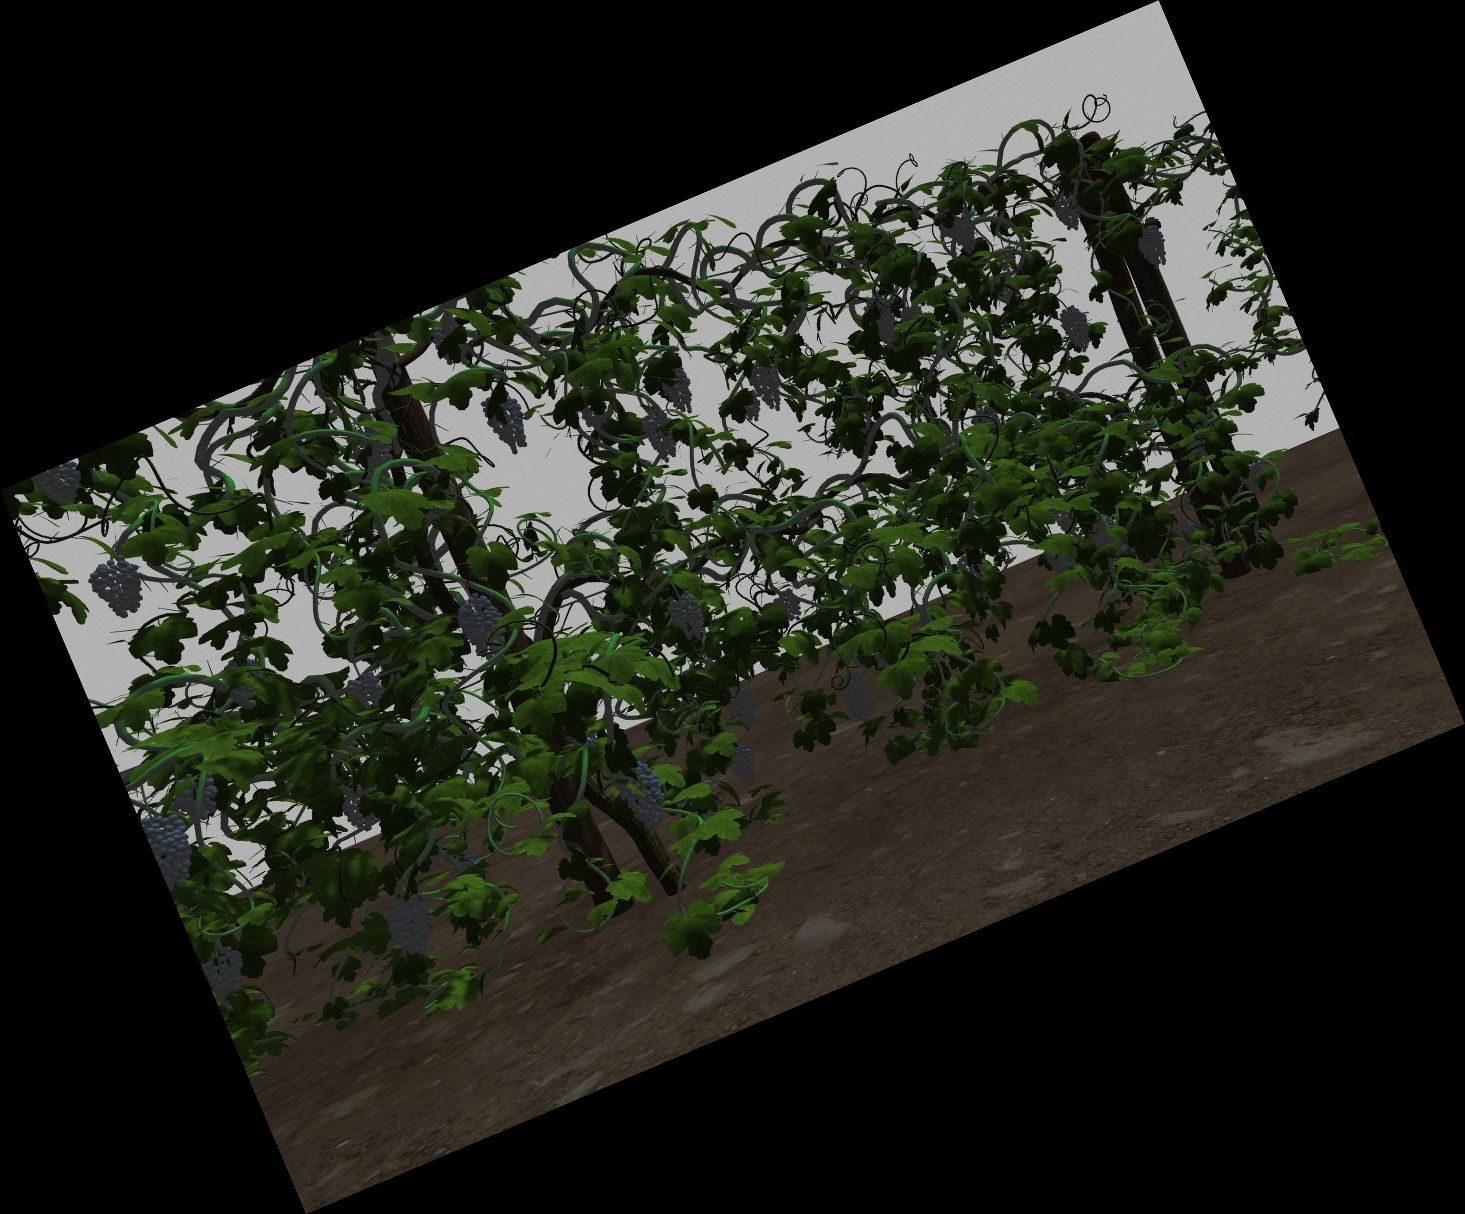grape: (389, 894, 433, 956), (625, 761, 666, 828), (96, 560, 144, 616), (158, 813, 192, 886), (461, 594, 501, 654), (489, 392, 524, 453), (178, 777, 219, 819), (662, 360, 692, 414), (208, 948, 245, 991), (39, 470, 84, 505), (672, 592, 703, 640), (842, 671, 871, 723), (753, 360, 781, 412), (647, 411, 675, 461), (1090, 515, 1122, 558), (1062, 307, 1091, 349), (347, 674, 381, 708), (1139, 227, 1167, 268), (730, 686, 757, 727), (1050, 545, 1076, 588), (869, 298, 896, 338), (731, 746, 758, 785), (1055, 191, 1080, 230), (958, 215, 980, 252), (1242, 463, 1267, 493), (778, 591, 801, 622), (1175, 519, 1197, 551), (1054, 502, 1076, 534), (938, 210, 962, 238)
